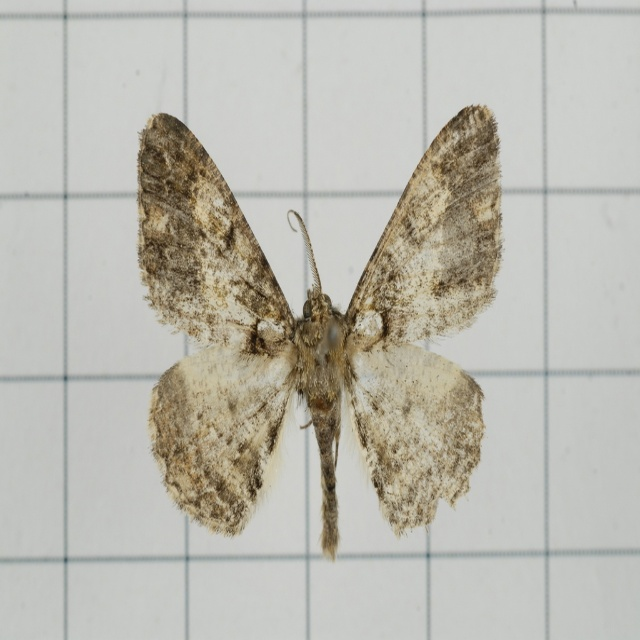Butterfly: (139, 102, 504, 561)
